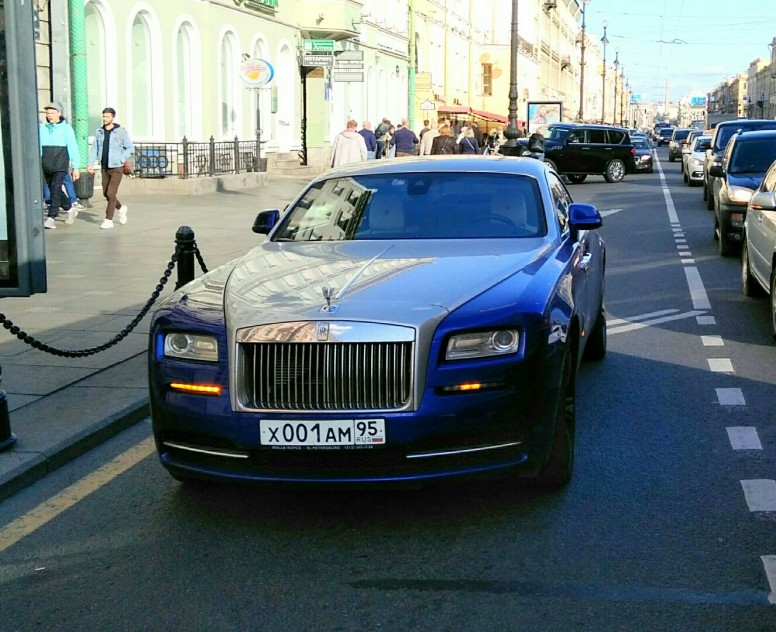number_plate: (258, 422, 383, 447)
